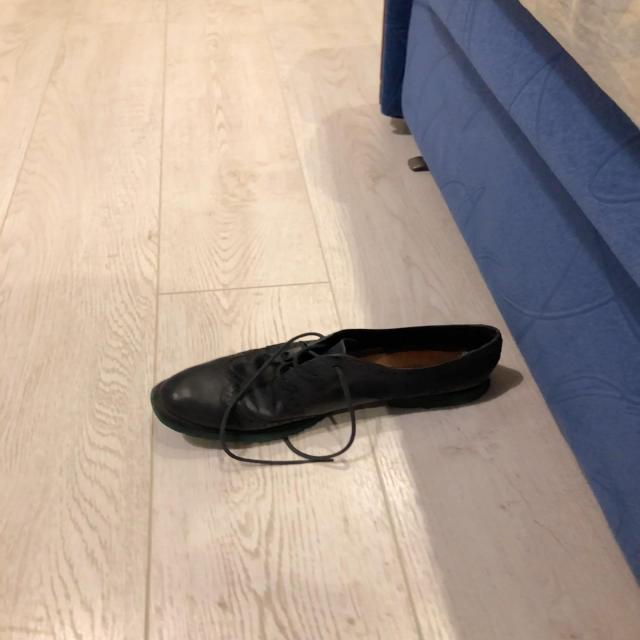shoe: (150, 325, 503, 456)
